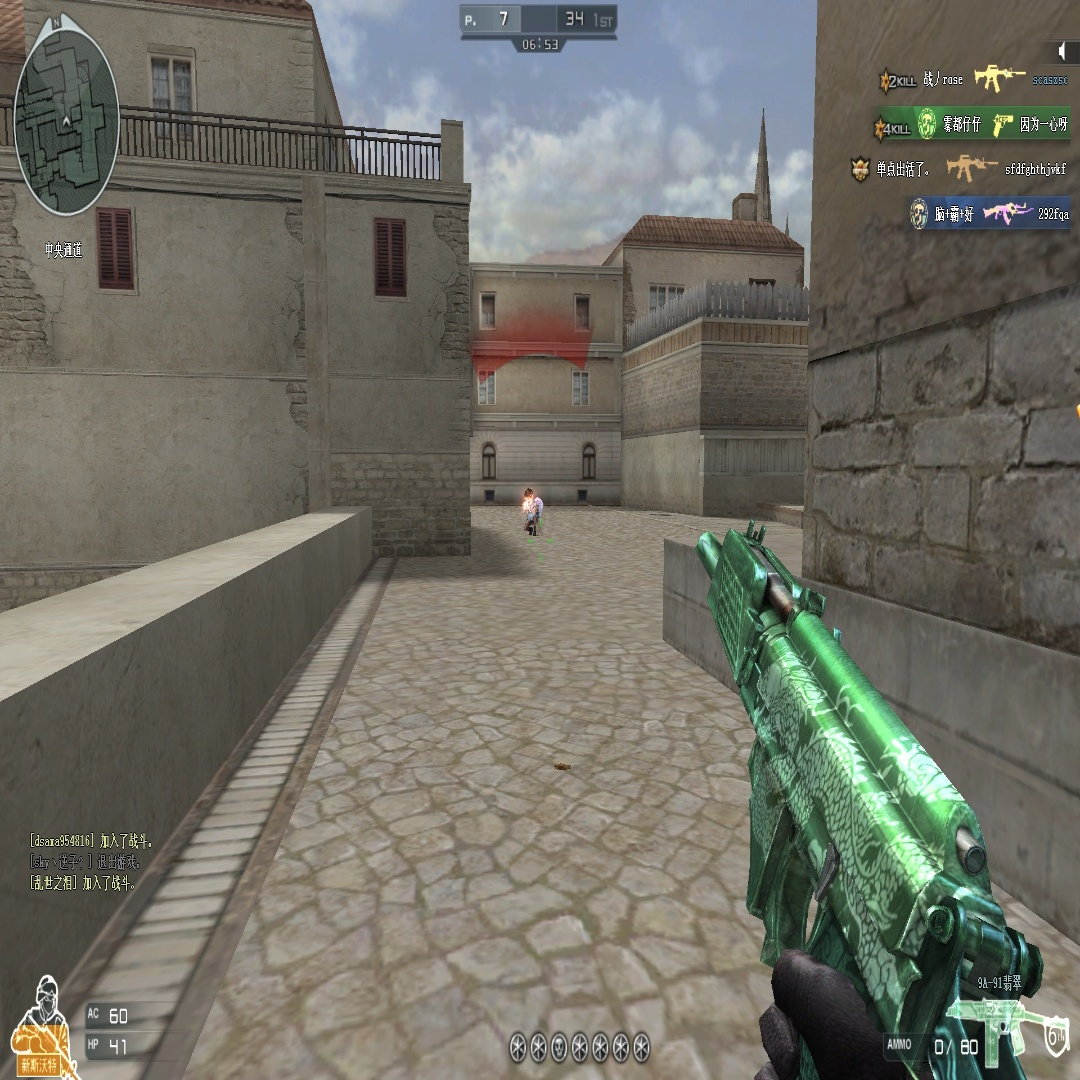p: (523, 488, 544, 537)
